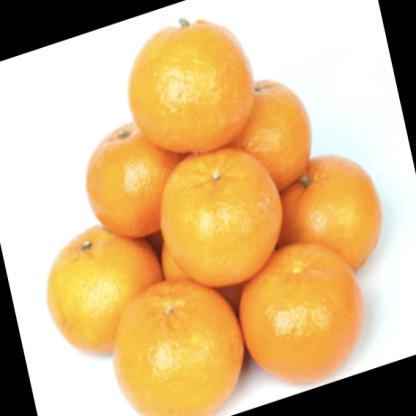fresh: (46, 16, 383, 412)
